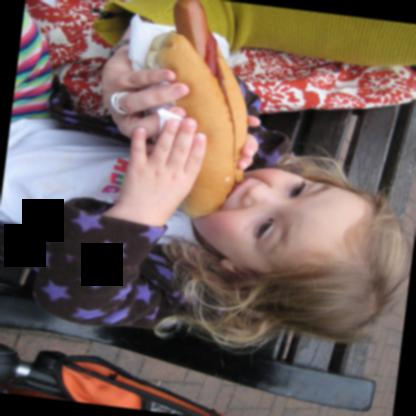suitcase: (0, 343, 224, 416)
